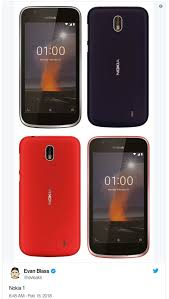nokia: (88, 135, 152, 263), (87, 3, 151, 131), (19, 4, 83, 132), (19, 134, 83, 262)
